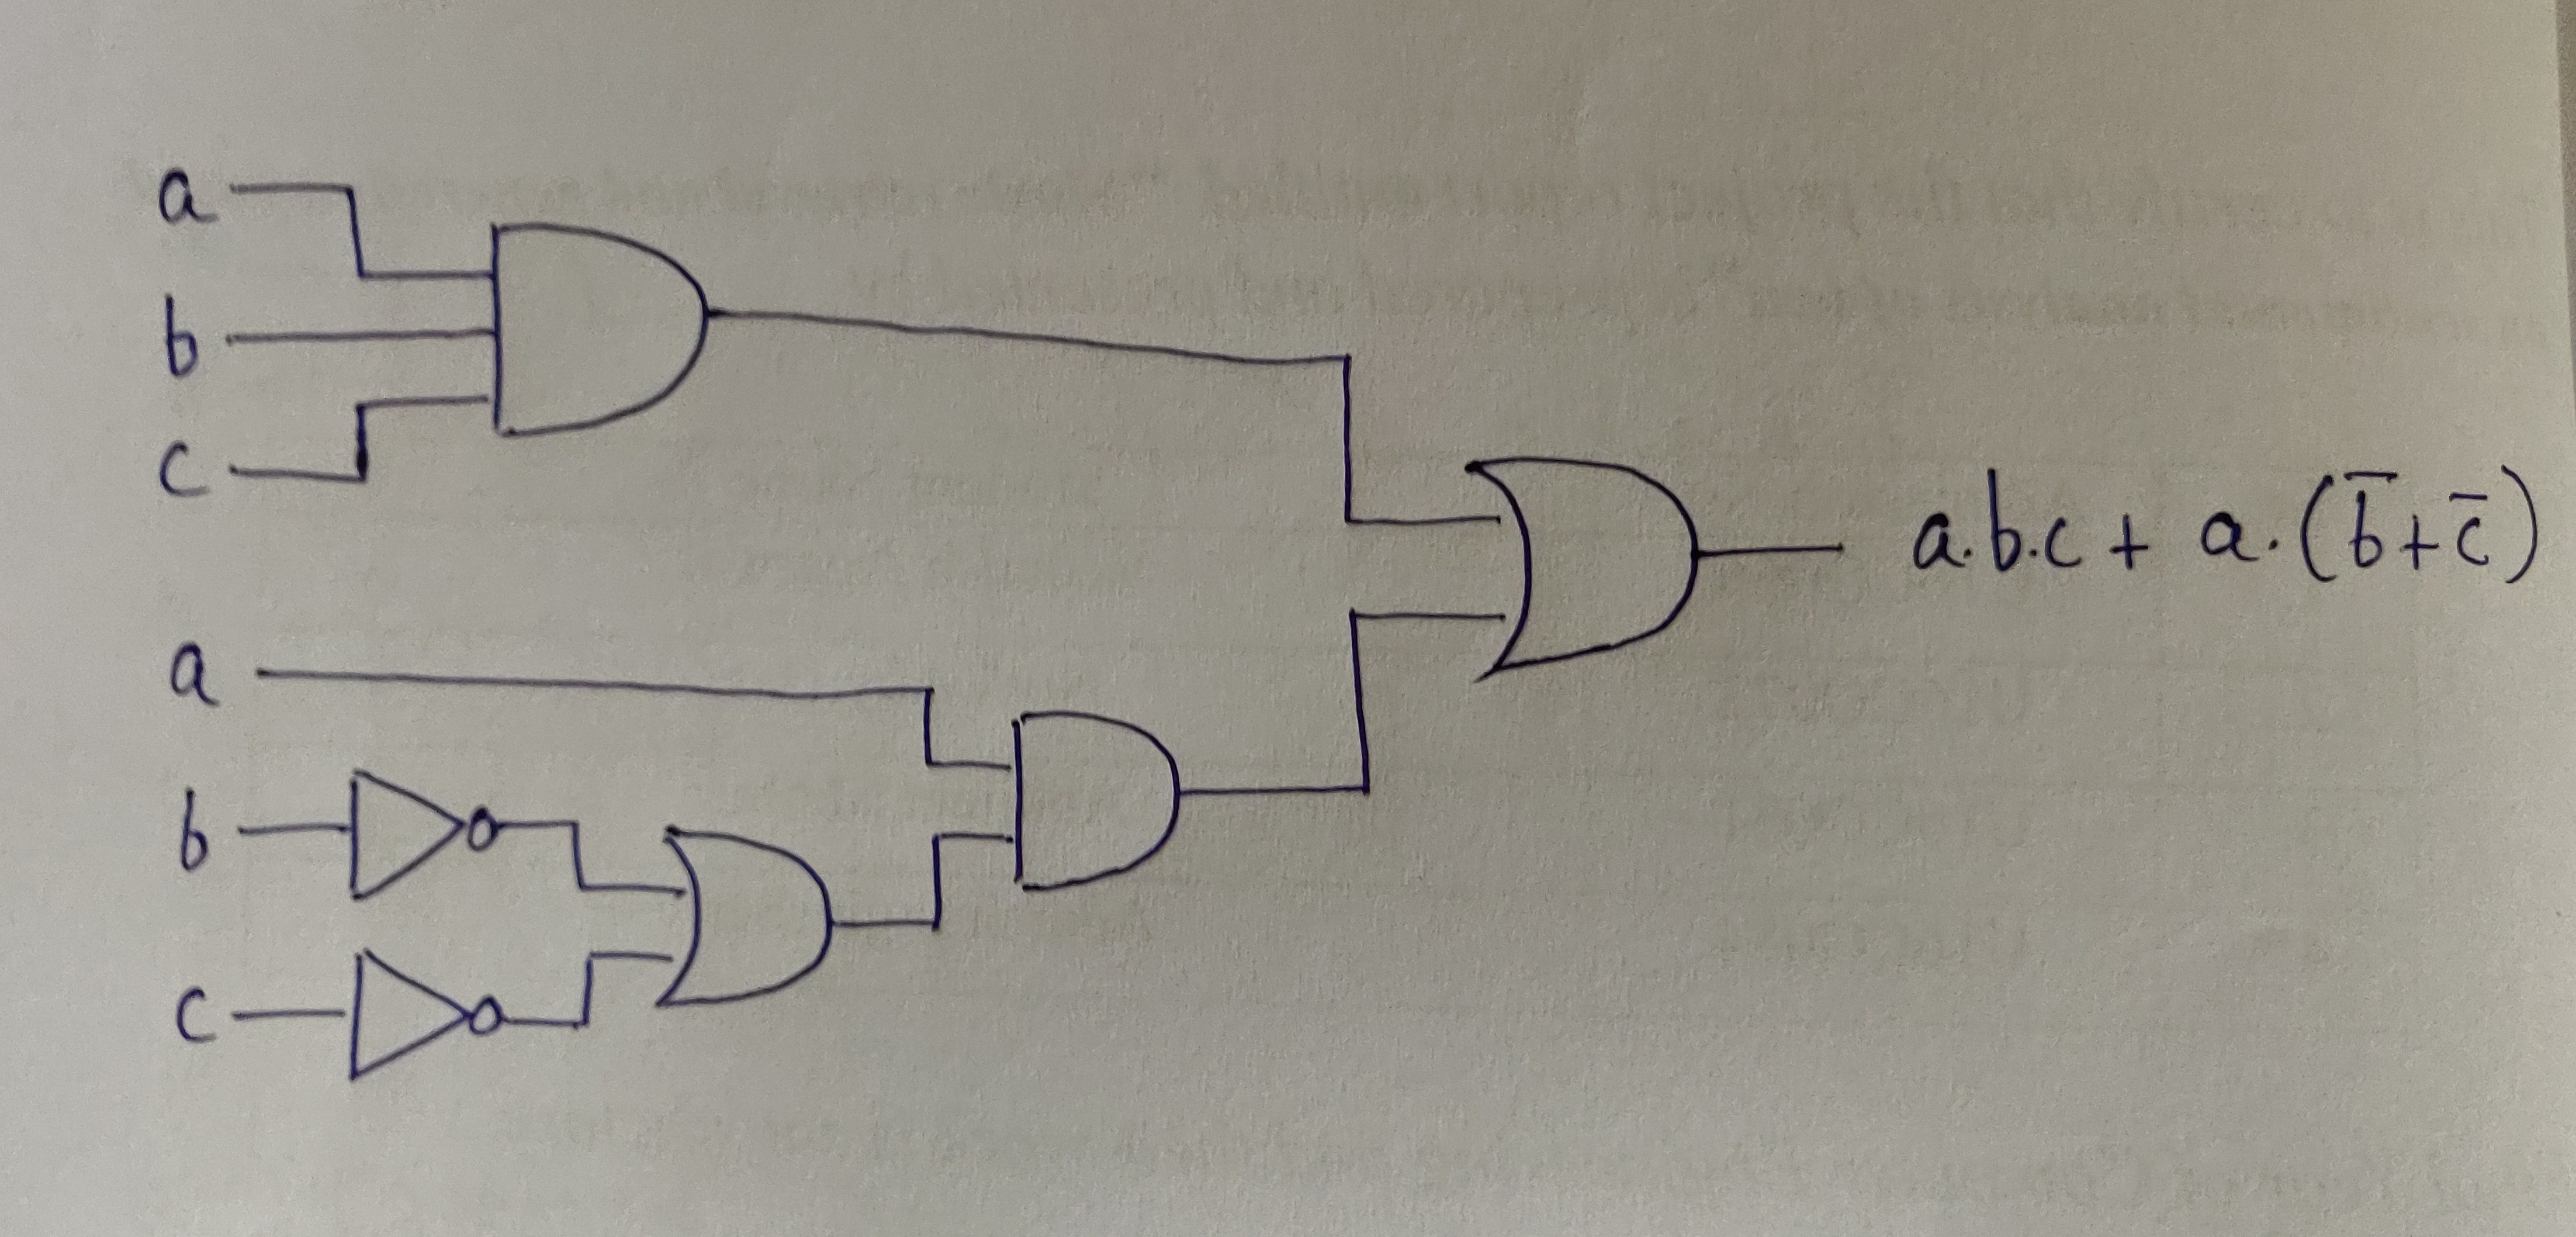and: (460, 192, 723, 453), (976, 687, 1203, 917)
not: (317, 759, 506, 920), (340, 940, 519, 1076)
or: (1444, 421, 1720, 706), (637, 807, 866, 1009)
